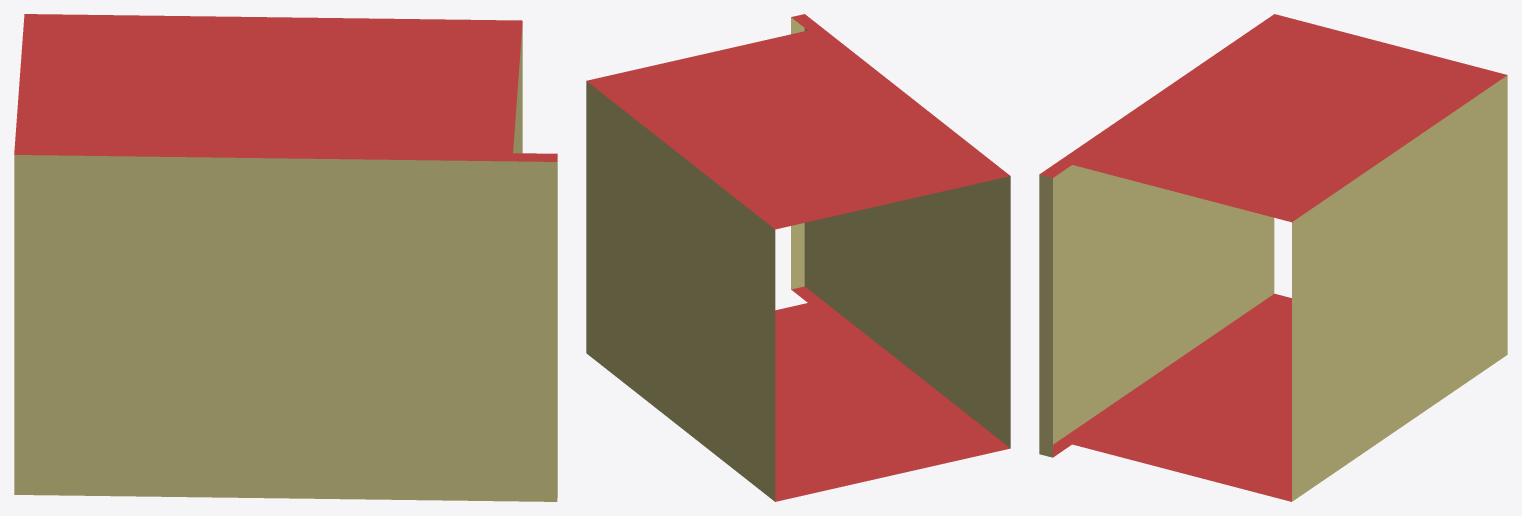
3 views of the same model, side by side, from view 1: azimuth 30°, elevation 25°; view 2: azimuth 150°, elevation 25°; view 3: azimuth 270°, elevation 25° (orthographic). The views are drawn at different scales.
Visible parts, largest first — view 1: group_4, group_3; view 2: group_4, group_3, group_5; view 3: group_4, group_3, group_5.
Part boxes in pixels (left/top/right/bottom): group_4: left=14, top=24, right=557, bottom=501; group_3: left=14, top=14, right=557, bottom=161; group_4: left=586, top=17, right=1010, bottom=501; group_3: left=586, top=14, right=1010, bottom=229; group_5: left=775, top=286, right=1010, bottom=501; group_4: left=1039, top=75, right=1507, bottom=501; group_3: left=1039, top=14, right=1507, bottom=222; group_5: left=1053, top=293, right=1291, bottom=501.
Bounding box in the file's own units: 13.73 × 13.05 × 8.59.
